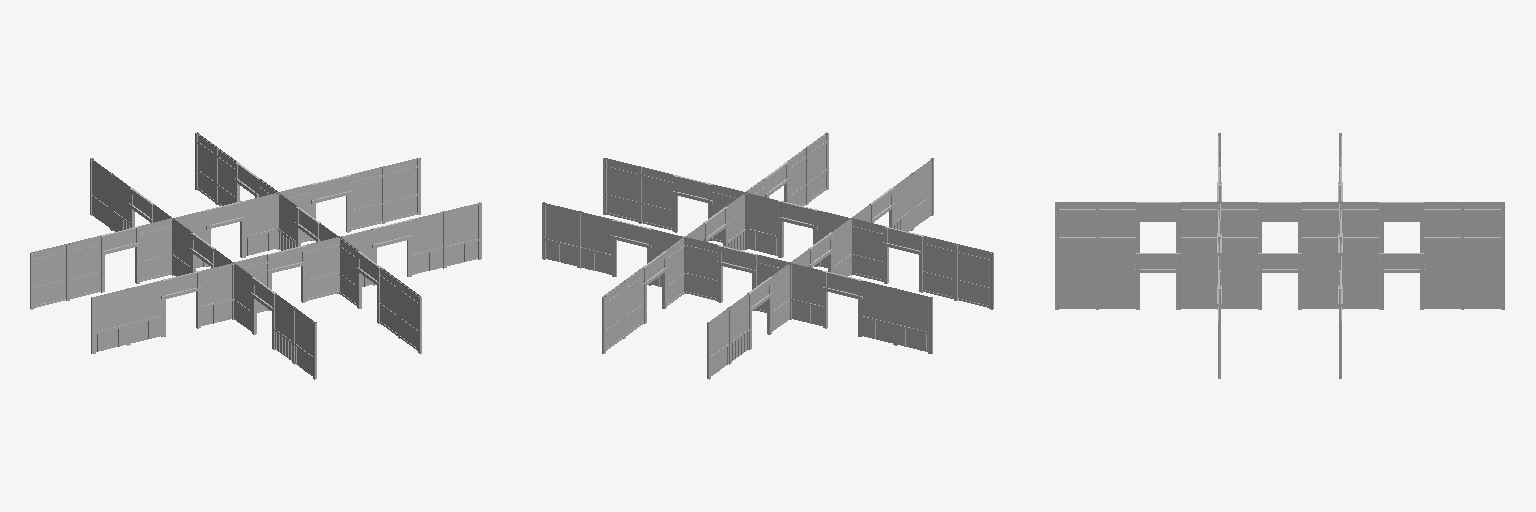
The model's file is etage.obj.
3 views of the same model, side by side, from view 1: azimuth 30°, elevation 25°; view 2: azimuth 150°, elevation 25°; view 3: azimuth 270°, elevation 25° (orthographic).
Visible parts, largest first — view 1: StaticMeshActor_504, StaticMeshActor_499, StaticMeshActor_489, StaticMeshActor_473, StaticMeshActor_479, StaticMeshActor_494, StaticMeshActor_484, StaticMeshActor_509, StaticMeshActor_505, StaticMeshActor_529, StaticMeshActor_500, StaticMeshActor_534 (+20 smaller); view 2: StaticMeshActor_499, StaticMeshActor_504, StaticMeshActor_473, StaticMeshActor_489, StaticMeshActor_484, StaticMeshActor_509, StaticMeshActor_479, StaticMeshActor_494, StaticMeshActor_500, StaticMeshActor_534, StaticMeshActor_505, StaticMeshActor_529 (+20 smaller); view 3: StaticMeshActor_479, StaticMeshActor_484, StaticMeshActor_494, StaticMeshActor_509, StaticMeshActor_480, StaticMeshActor_485, StaticMeshActor_523, StaticMeshActor_524, StaticMeshActor_495, StaticMeshActor_518, StaticMeshActor_510, StaticMeshActor_519 (+6 smaller).
Part boxes in pixels (x1,y1,x2,y2): StaticMeshActor_504: (30,236,100,309); StaticMeshActor_499: (91,281,161,353); StaticMeshActor_489: (351,158,420,230); StaticMeshActor_473: (411,202,481,274); StaticMeshActor_479: (380,268,421,353); StaticMeshActor_494: (274,294,316,379); StaticMeshActor_484: (195,132,236,205); StaticMeshActor_509: (90,158,130,231); StaticMeshActor_505: (139,218,171,281); StaticMeshActor_529: (246,192,278,255); StaticMeshActor_500: (201,263,235,325); StaticMeshActor_534: (306,237,338,300); StaticMeshActor_499: (923,236,993,309); StaticMeshActor_504: (862,281,932,353); StaticMeshActor_473: (603,158,672,230); StaticMeshActor_489: (542,202,612,274); StaticMeshActor_484: (602,268,643,353); StaticMeshActor_509: (707,294,749,379); StaticMeshActor_479: (787,132,828,205); StaticMeshActor_494: (893,158,933,231); StaticMeshActor_500: (852,218,884,281); StaticMeshActor_534: (745,192,777,255); StaticMeshActor_505: (788,263,822,325); StaticMeshActor_529: (685,237,717,300); StaticMeshActor_479: (1055,253,1135,309); StaticMeshActor_484: (1424,253,1504,309); StaticMeshActor_494: (1055,202,1135,252); StaticMeshActor_509: (1424,202,1504,252); StaticMeshActor_480: (1181,253,1218,309); StaticMeshActor_485: (1341,253,1378,309); StaticMeshActor_523: (1302,253,1342,308); StaticMeshActor_524: (1219,253,1257,308); StaticMeshActor_495: (1181,202,1218,252); StaticMeshActor_518: (1302,202,1342,252); StaticMeshActor_510: (1341,202,1378,252); StaticMeshActor_519: (1219,202,1257,252).
Size of the model in its own units: 2221 by 305 by 2221.